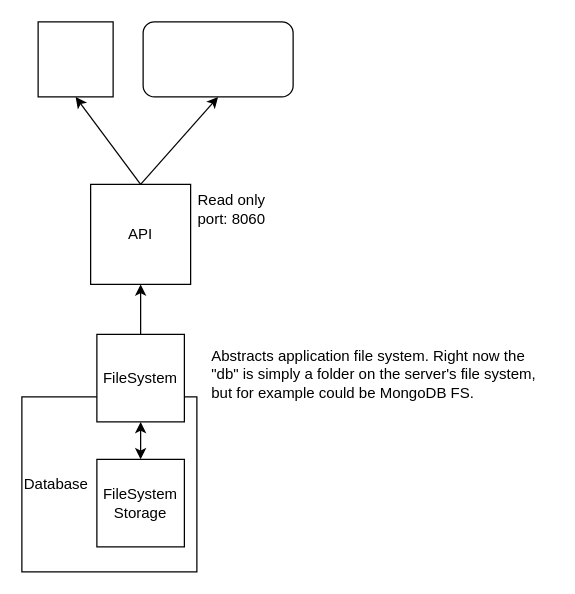
Image size: 575x594. Some labels were removed from this diagram. Here are the shapes that lost their labels. From the top down, the centre of each, then its label:
the point at 75,59: UI
the point at 217,59: CLI and other GET requests
